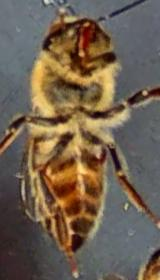varroa_mite: (86, 140, 110, 166)
